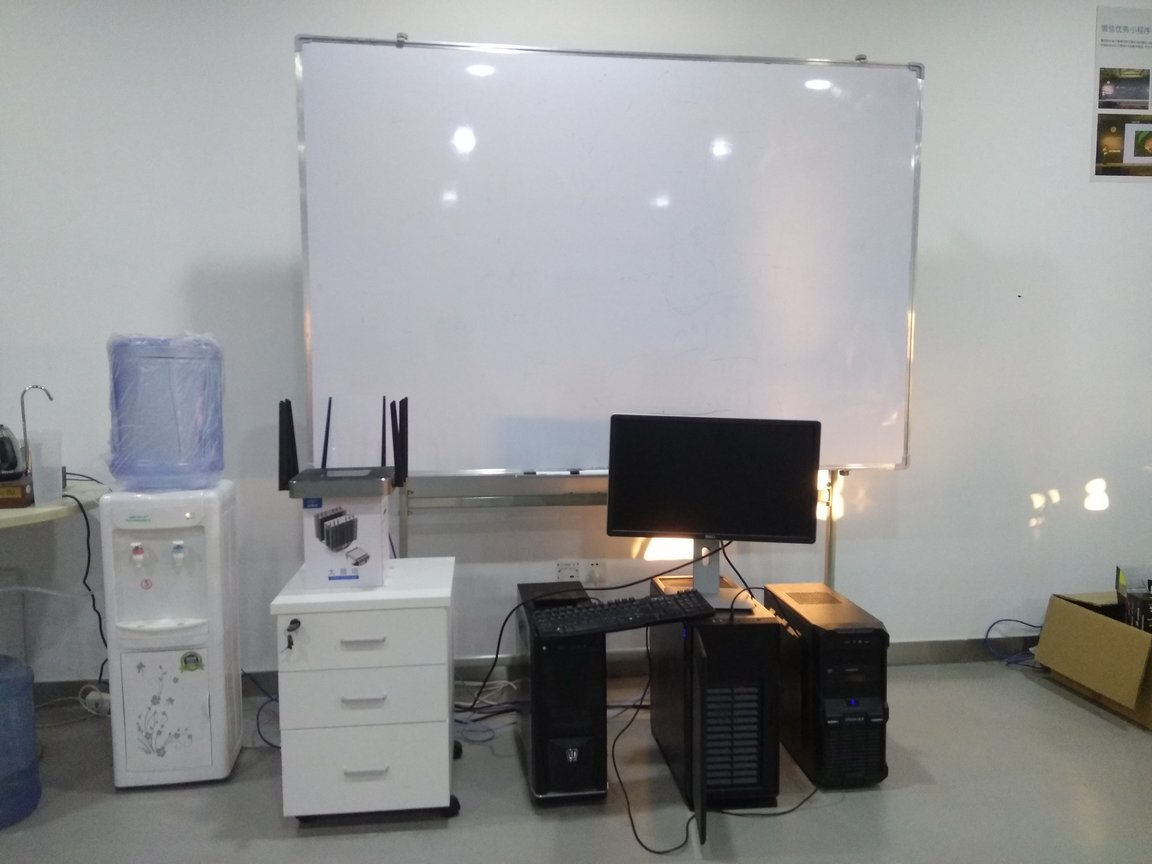computer: (655, 573, 787, 836), (759, 576, 896, 798), (513, 580, 610, 812)
drawer chest: (275, 554, 466, 822)
monitor: (607, 406, 820, 627)
scuttlebutt: (103, 325, 232, 496), (1, 655, 47, 835)
water dispenser: (95, 484, 248, 794)
